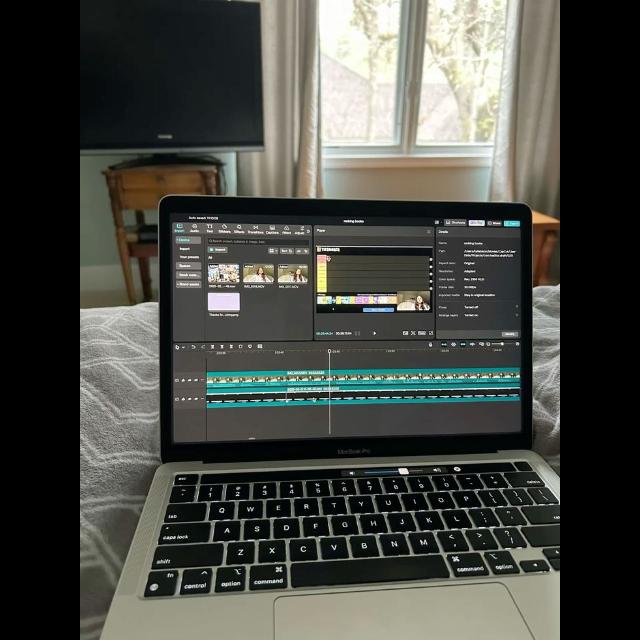laptop: (148, 190, 560, 628)
